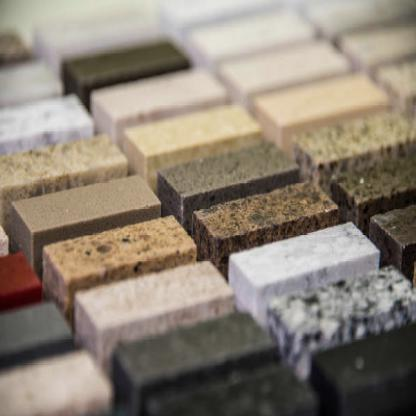Metamorphic_Marble: (63, 254, 233, 352), (227, 210, 381, 313), (196, 176, 353, 255), (39, 217, 199, 289), (4, 168, 172, 234), (154, 138, 306, 205)
